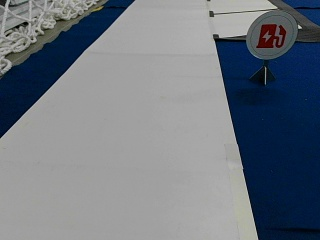battery: (246, 9, 297, 59)
